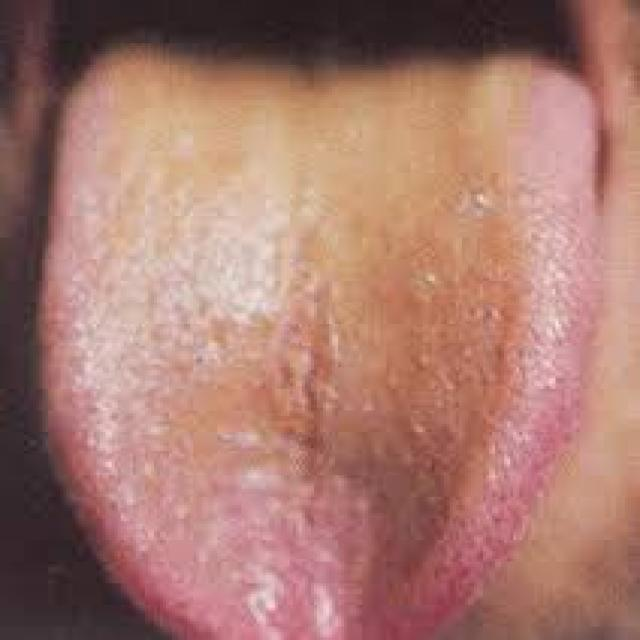discolored_patch: (30, 30, 607, 637)
